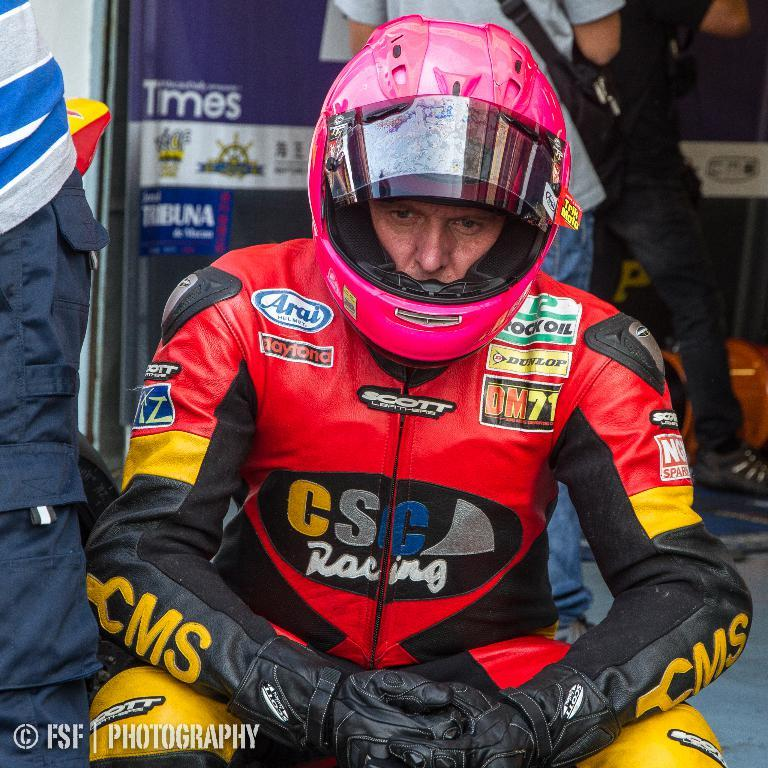helmet: (307, 14, 572, 362)
